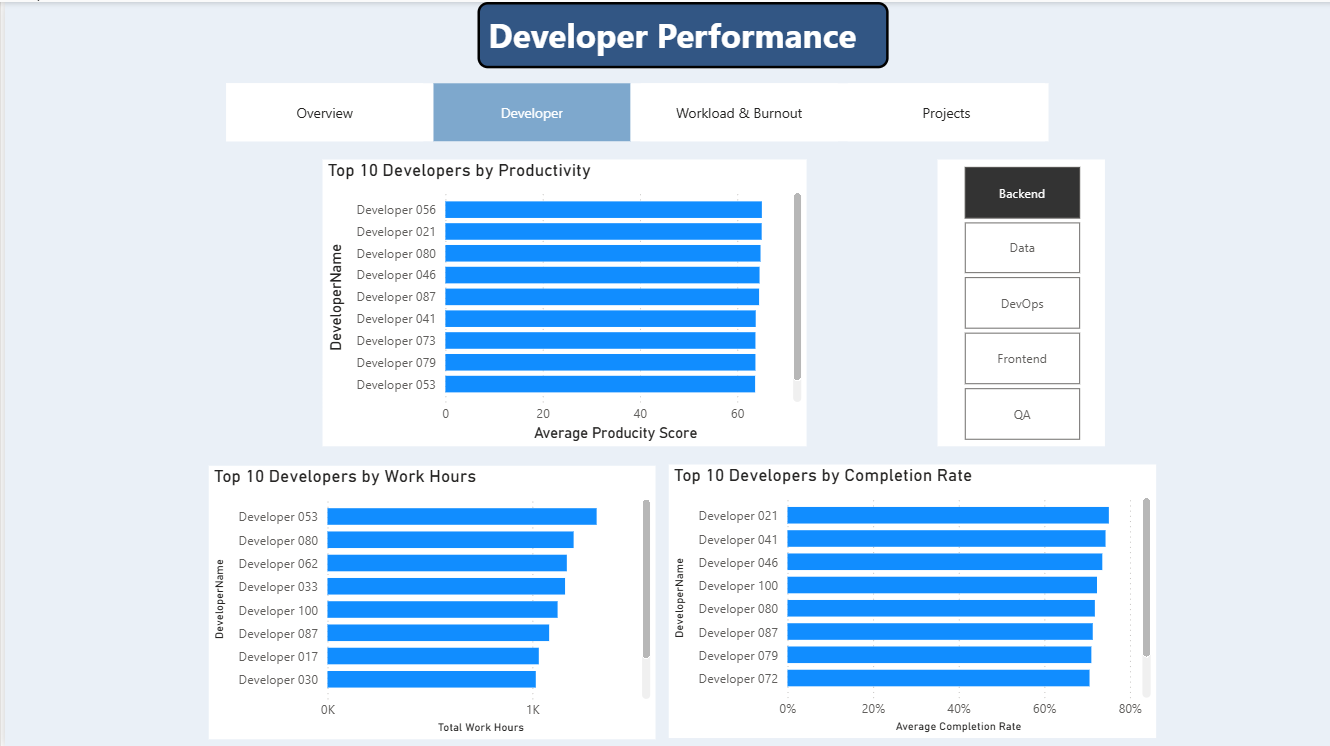

What the dashboard file says about the page in this screenshot:
{"tool":"powerbi","page":{"name":"Developer","canvas":[1280,720],"ordinal":1},"visuals":[{"type":"clusteredBarChart","title":"Top 10 Developers by Productivity ","fields":{"Category":["DimDeveloper.DeveloperName"],"Y":["Calculation.Average Producity Score"]},"box":[305.9,151.5,467.5,277],"z":0},{"type":"clusteredBarChart","title":"Top 10 Developers by Work Hours","fields":{"Category":["DimDeveloper.DeveloperName"],"Y":["Calculation.Total Work Hours"]},"box":[196.2,447.3,431.4,264],"z":1000},{"type":"clusteredBarChart","title":"Top 10 Developers by Completion Rate","fields":{"Category":["DimDeveloper.DeveloperName"],"Y":["Calculation.Average Completion Rate"]},"box":[640.6,445.8,470.3,264],"z":2000},{"type":"textbox","box":[455.7,0,397.1,64.3],"z":6000},{"type":"slicer","fields":{"Values":["DimDeveloper.Team"]},"box":[900.3,151.5,161.6,277],"z":6001},{"type":"pageNavigator","box":[213.5,77.9,793.5,56.3],"z":6002}]}

Visuals, with their boxes in screenshot pixels (x1, y1, x2, y2), scaled from the page's 1280x720 canvas onto the 1330x746 screenshot:
"Top 10 Developers by Productivity " clusteredBarChart: pyautogui.locateOnScreen(318, 157, 804, 444)
"Top 10 Developers by Work Hours" clusteredBarChart: pyautogui.locateOnScreen(204, 463, 652, 737)
"Top 10 Developers by Completion Rate" clusteredBarChart: pyautogui.locateOnScreen(666, 462, 1154, 735)
textbox: pyautogui.locateOnScreen(474, 0, 886, 67)
slicer - DimDeveloper.Team: pyautogui.locateOnScreen(935, 157, 1103, 444)
pageNavigator: pyautogui.locateOnScreen(222, 81, 1046, 139)
